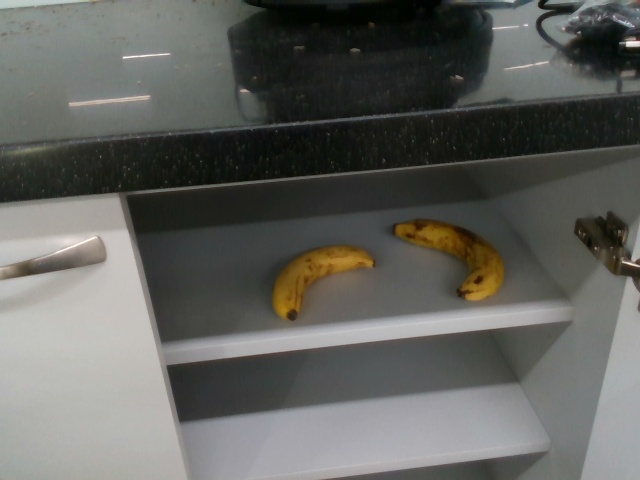banana: (390, 216, 503, 303), (267, 242, 375, 323)
